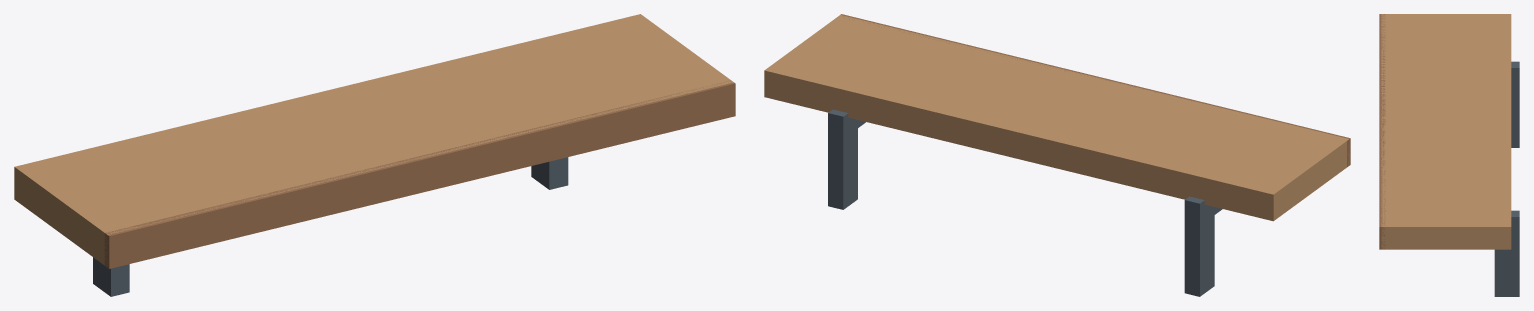
Rendered from Shelf_Floating_120.fbx.
3 views of the same model, side by side, from view 1: azimuth 30°, elevation 25°; view 2: azimuth 150°, elevation 25°; view 3: azimuth 270°, elevation 25° (orthographic). The views are drawn at different scales.
Visible parts, largest first — view 1: Shelf_Floating_120; view 2: Shelf_Floating_120; view 3: Shelf_Floating_120.
Part boxes in pixels (x1=…): Shelf_Floating_120: x1=14, y1=14, x2=735, y2=296; Shelf_Floating_120: x1=764, y1=14, x2=1350, y2=296; Shelf_Floating_120: x1=1379, y1=14, x2=1519, y2=296.
Size of the model in its own units: 1.2 by 0.26 by 0.335.
